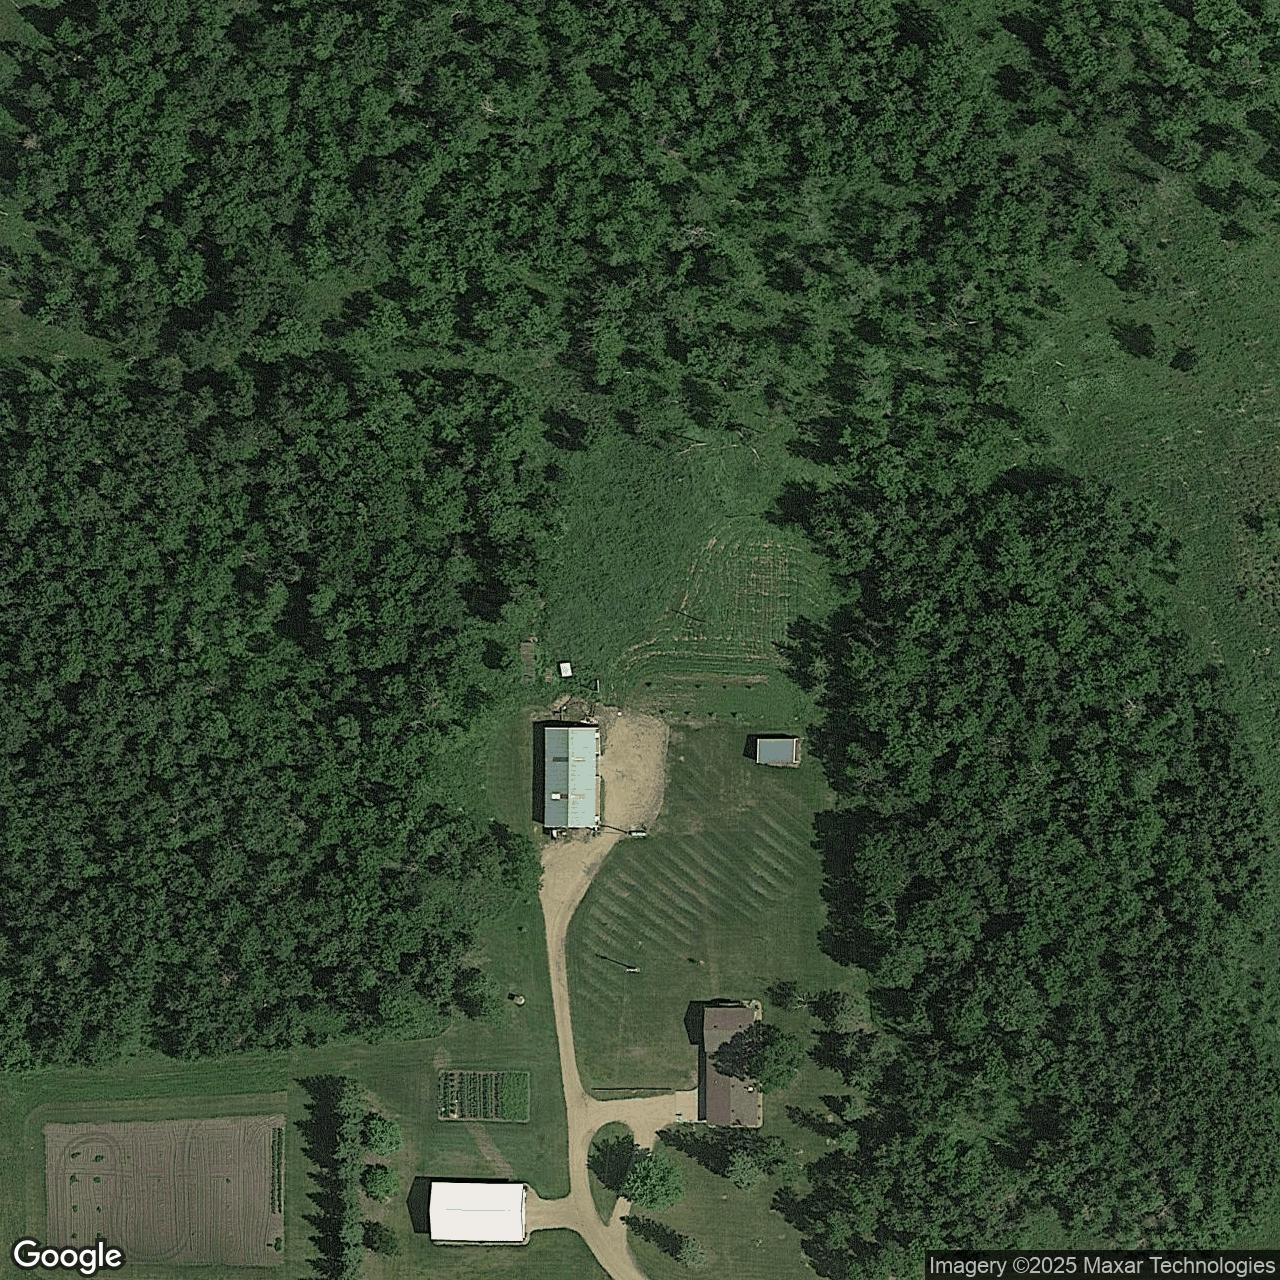Garage: (544, 727, 595, 828)
House: (704, 1007, 758, 1125), (430, 1183, 525, 1241)
